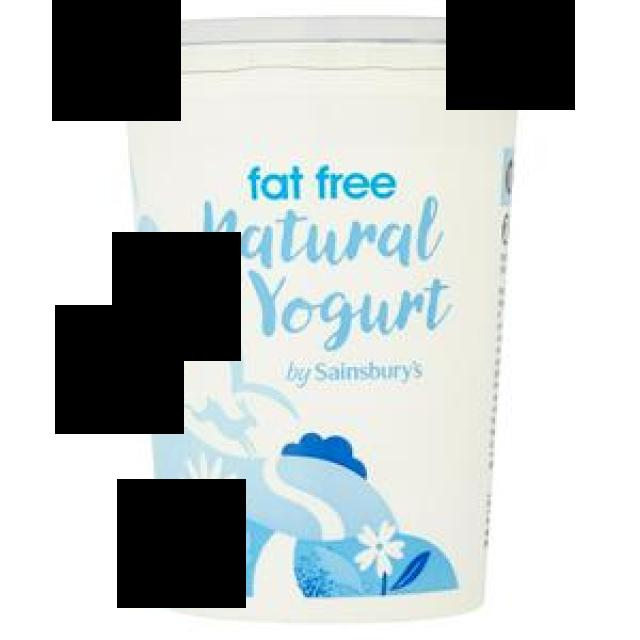yoghurt: (87, 15, 549, 626)
